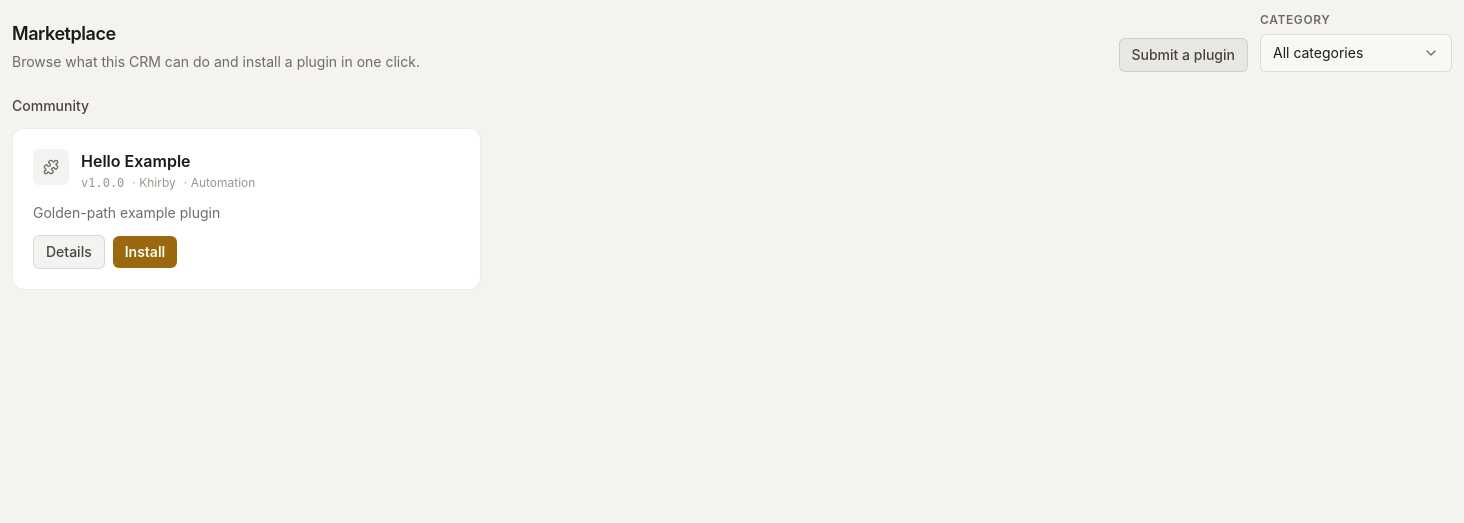
MarketplaceView — details modal › opens with the required config keys and a safe docs link
Click the button "Details" at (69, 252), box [33,235,105,269]
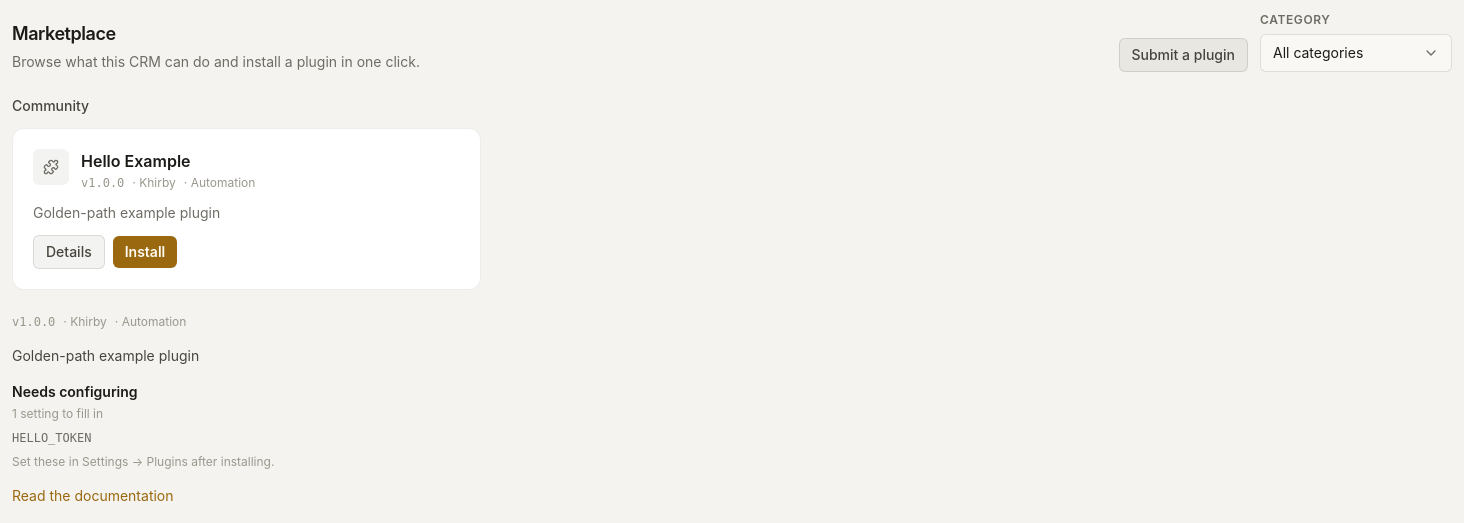
Now the text "HELLO_TOKEN" is shown, box [12,431,92,445]
Now the link to "https://khirby.com/docs/plugins/create" is shown, box [12,486,174,506]
